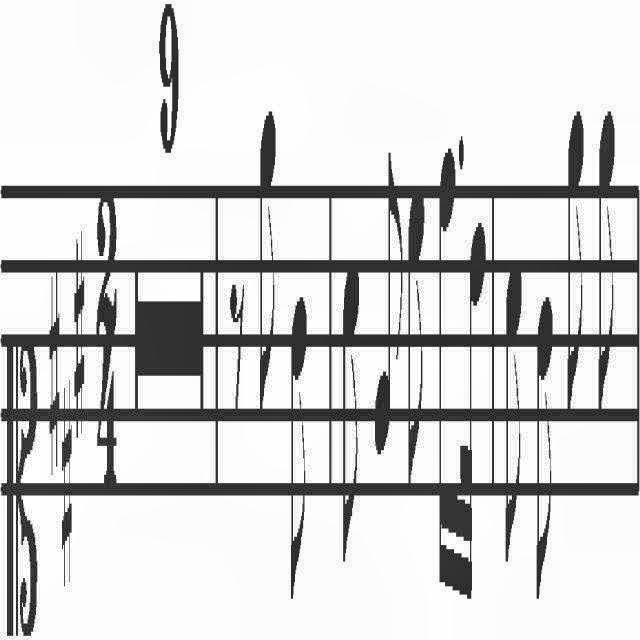Diez: (45, 238, 61, 480), (59, 358, 73, 586), (73, 221, 87, 447)
Eighth-note: (374, 100, 404, 484), (498, 207, 524, 596), (594, 88, 622, 412), (254, 86, 278, 434), (562, 95, 586, 425), (533, 259, 555, 611), (407, 152, 427, 508), (288, 277, 308, 617), (340, 250, 360, 574)
Eighth-rest: (230, 270, 244, 414)
Sixteenth-note: (430, 123, 458, 614)
